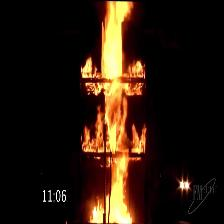fire: (91, 4, 135, 224)
